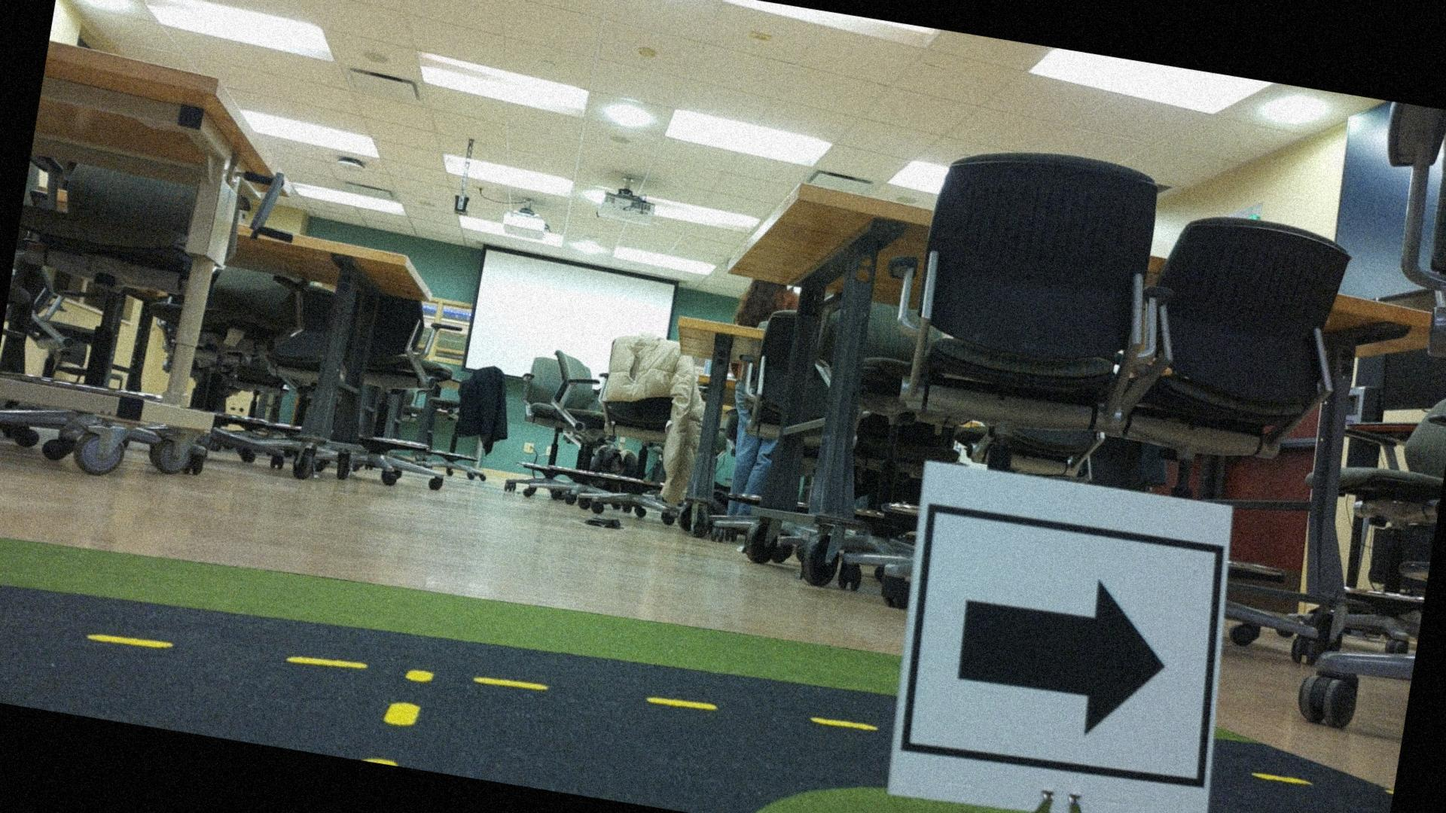turnleft: (885, 464, 1233, 812)
yellowline: (84, 596, 871, 763)
